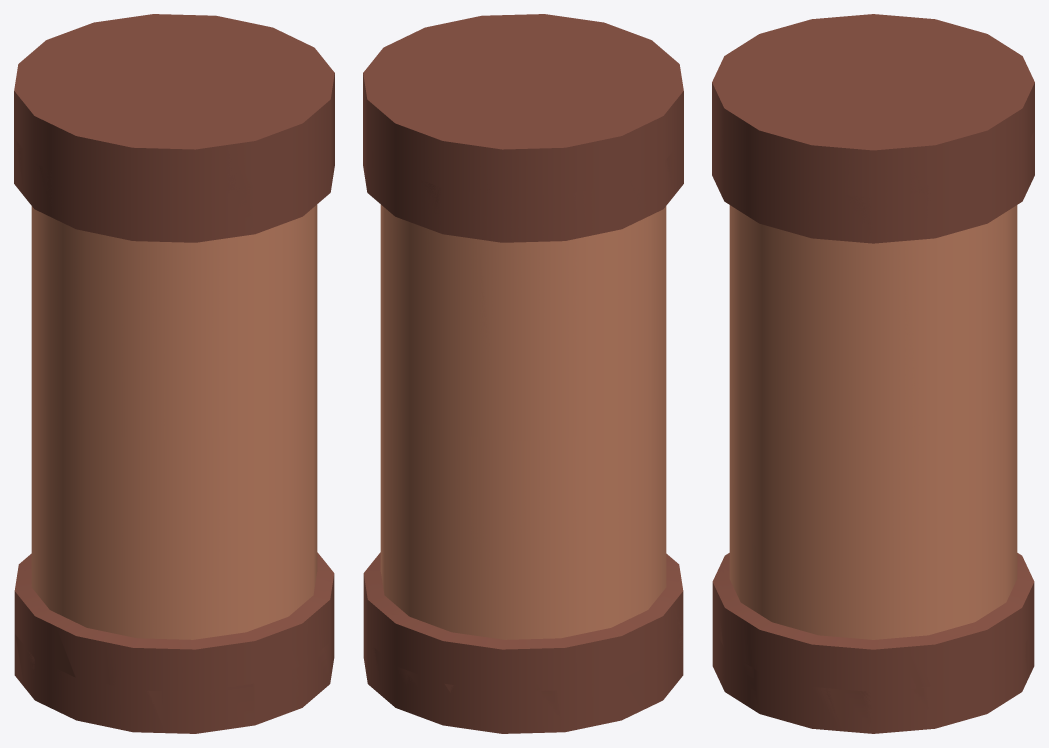
File: ColumnFractured.fbx
3 renders of one model, left to right at view 1: azimuth 30°, elevation 25°; view 2: azimuth 150°, elevation 25°; view 3: azimuth 270°, elevation 25°, orthographic.
Visible parts, largest first — view 1: Цилиндр_Цилиндр.001, Цилиндр_Цилиндр.001_cell.074, Цилиндр_Цилиндр.001_cell.073, Цилиндр_Цилиндр.001_cell.072, Цилиндр_Цилиндр.001_cell.034, Цилиндр_Цилиндр.001_cell.056, Цилиндр_Цилиндр.001_cell.058, Цилиндр_Цилиндр.001_cell.035, Цилиндр_Цилиндр.001_cell.012, Цилиндр_Цилиндр.001_cell.076, Цилиндр_Цилиндр.001_cell.075, Цилиндр_Цилиндр.001_cell.001 (+34 smaller); view 2: Цилиндр_Цилиндр.001, Цилиндр_Цилиндр.001_cell.068, Цилиндр_Цилиндр.001_cell.062, Цилиндр_Цилиндр.001_cell, Цилиндр_Цилиндр.001_cell.001, Цилиндр_Цилиндр.001_cell.064, Цилиндр_Цилиндр.001_cell.060, Цилиндр_Цилиндр.001_cell.065, Цилиндр_Цилиндр.001_cell.058, Цилиндр_Цилиндр.001_cell.023, Цилиндр_Цилиндр.001_cell.026, Цилиндр_Цилиндр.001_cell.006 (+28 smaller); view 3: Цилиндр_Цилиндр.001, Цилиндр_Цилиндр.001_cell.032, Цилиндр_Цилиндр.001_cell.070, Цилиндр_Цилиндр.001_cell.083, Цилиндр_Цилиндр.001_cell.079, Цилиндр_Цилиндр.001_cell.065, Цилиндр_Цилиндр.001_cell.078, Цилиндр_Цилиндр.001_cell.080, Цилиндр_Цилиндр.001_cell.082, Цилиндр_Цилиндр.001_cell.028, Цилиндр_Цилиндр.001_cell.093, Цилиндр_Цилиндр.001_cell.045 (+31 smaller).
Boxes of the visible parts, x1,y1,x2,y2 form: Цилиндр_Цилиндр.001: [14, 14, 334, 733]; Цилиндр_Цилиндр.001_cell.074: [165, 240, 219, 440]; Цилиндр_Цилиндр.001_cell.073: [112, 238, 164, 439]; Цилиндр_Цилиндр.001_cell.072: [68, 226, 111, 433]; Цилиндр_Цилиндр.001_cell.034: [220, 453, 275, 643]; Цилиндр_Цилиндр.001_cell.056: [58, 421, 111, 640]; Цилиндр_Цилиндр.001_cell.058: [31, 401, 68, 624]; Цилиндр_Цилиндр.001_cell.035: [165, 480, 220, 642]; Цилиндр_Цилиндр.001_cell.012: [164, 99, 225, 195]; Цилиндр_Цилиндр.001_cell.076: [267, 459, 312, 629]; Цилиндр_Цилиндр.001_cell.075: [220, 289, 267, 436]; Цилиндр_Цилиндр.001_cell.001: [41, 213, 68, 418]; Цилиндр_Цилиндр.001: [363, 15, 683, 733]; Цилиндр_Цилиндр.001_cell.068: [474, 437, 533, 646]; Цилиндр_Цилиндр.001_cell.062: [533, 434, 586, 643]; Цилиндр_Цилиндр.001_cell: [586, 226, 629, 429]; Цилиндр_Цилиндр.001_cell.001: [629, 213, 656, 417]; Цилиндр_Цилиндр.001_cell.064: [422, 426, 477, 643]; Цилиндр_Цилиндр.001_cell.060: [586, 421, 629, 574]; Цилиндр_Цилиндр.001_cell.065: [385, 408, 430, 630]; Цилиндр_Цилиндр.001_cell.058: [629, 411, 669, 618]; Цилиндр_Цилиндр.001_cell.023: [430, 230, 477, 388]; Цилиндр_Цилиндр.001_cell.026: [478, 239, 532, 363]; Цилиндр_Цилиндр.001_cell.006: [473, 83, 533, 195]; Цилиндр_Цилиндр.001: [712, 15, 1034, 733]; Цилиндр_Цилиндр.001_cell.032: [846, 241, 900, 440]; Цилиндр_Цилиндр.001_cell.070: [952, 415, 995, 635]; Цилиндр_Цилиндр.001_cell.083: [901, 431, 956, 644]; Цилиндр_Цилиндр.001_cell.079: [756, 226, 794, 429]; Цилиндр_Цилиндр.001_cell.065: [990, 393, 1024, 617]; Цилиндр_Цилиндр.001_cell.078: [745, 481, 794, 631]; Цилиндр_Цилиндр.001_cell.080: [795, 471, 845, 637]; Цилиндр_Цилиндр.001_cell.082: [844, 439, 900, 645]; Цилиндр_Цилиндр.001_cell.028: [952, 224, 989, 365]; Цилиндр_Цилиндр.001_cell.093: [786, 637, 842, 688]; Цилиндр_Цилиндр.001_cell.045: [786, 680, 842, 731].
Size of the model in its own units: 101 by 202 by 101.
